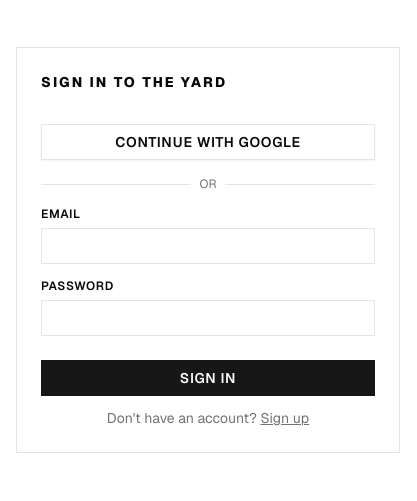
Test: LoginPage › shows error on auth failure
Type "test@test.com" into the field labelled "Email" at (208, 246), box [41,228,375,264]
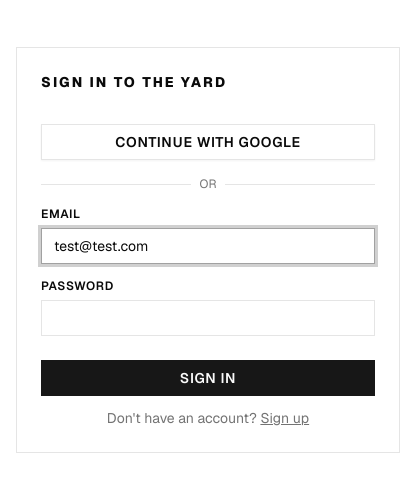
Type "wrong" into the password field labelled "Password" at (208, 318), box [41,300,375,336]
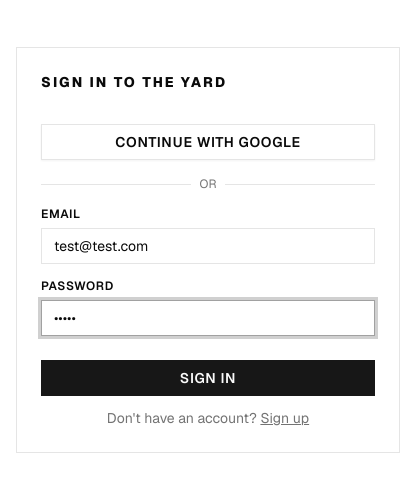
Submit the text "Sign In"
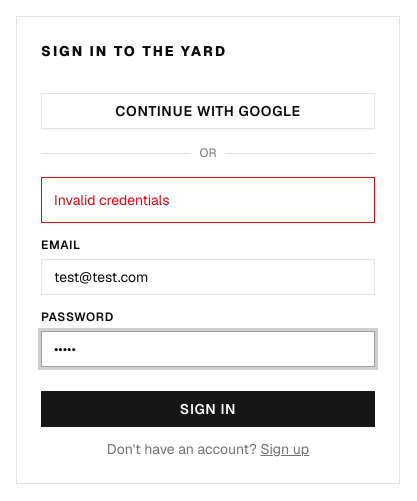
Check: the text "Invalid credentials" is shown, box [41,177,375,223]
